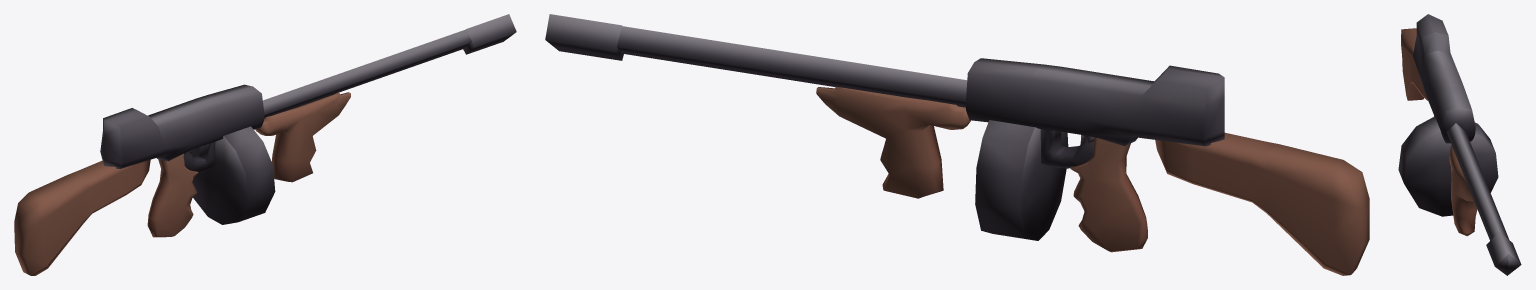
Rendered from mesh_Tommy_gun_LOD1.fbx.
3 renders of one model, left to right at view 1: azimuth 30°, elevation 25°; view 2: azimuth 150°, elevation 25°; view 3: azimuth 270°, elevation 25°, orthographic. The views are drawn at different scales.
Parts seen in each view (by area): view 1: tommy_gun_LOD1; view 2: tommy_gun_LOD1; view 3: tommy_gun_LOD1.
Part boxes in pixels (x1,y1,x2,y2): tommy_gun_LOD1: (14, 14, 516, 275); tommy_gun_LOD1: (545, 14, 1369, 275); tommy_gun_LOD1: (1398, 14, 1521, 275).
Bounding box in the file's own units: 270 × 66.35 × 55.41.
